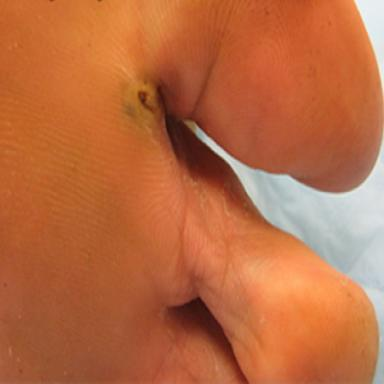Tungiasis: (124, 81, 162, 135)
